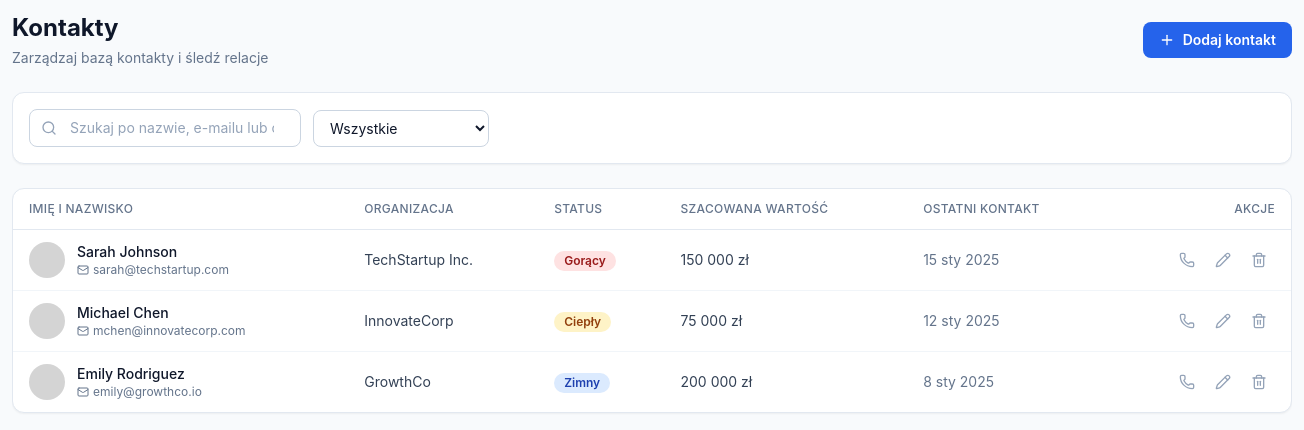
Test: ContactsView › filters contacts by the search field
Type "Michael Chen" into the search field with placeholder "Szukaj po nazwie, e-mailu lub organizacji…" at (165, 128), box [29,109,301,147]
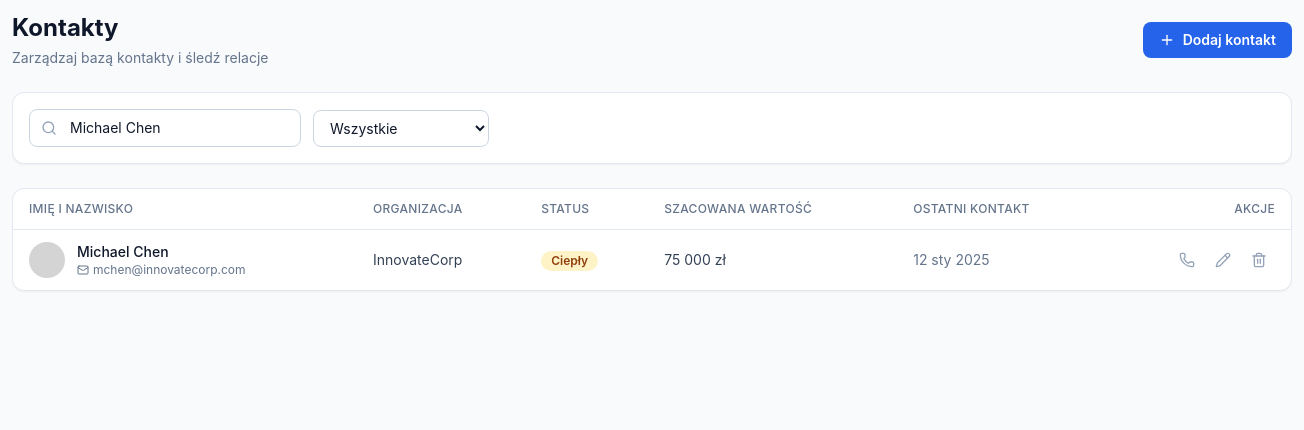
Expected: the text "Michael Chen" is shown, [77,243,169,260]
Expected: the text "Sarah Johnson" is gone
